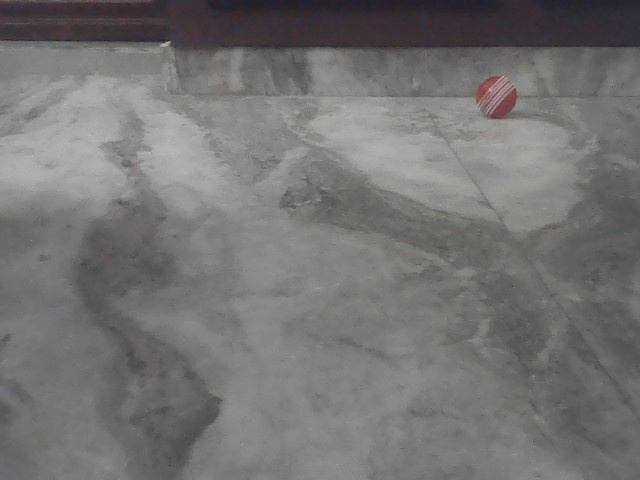cricket_ball: (473, 72, 522, 124)
